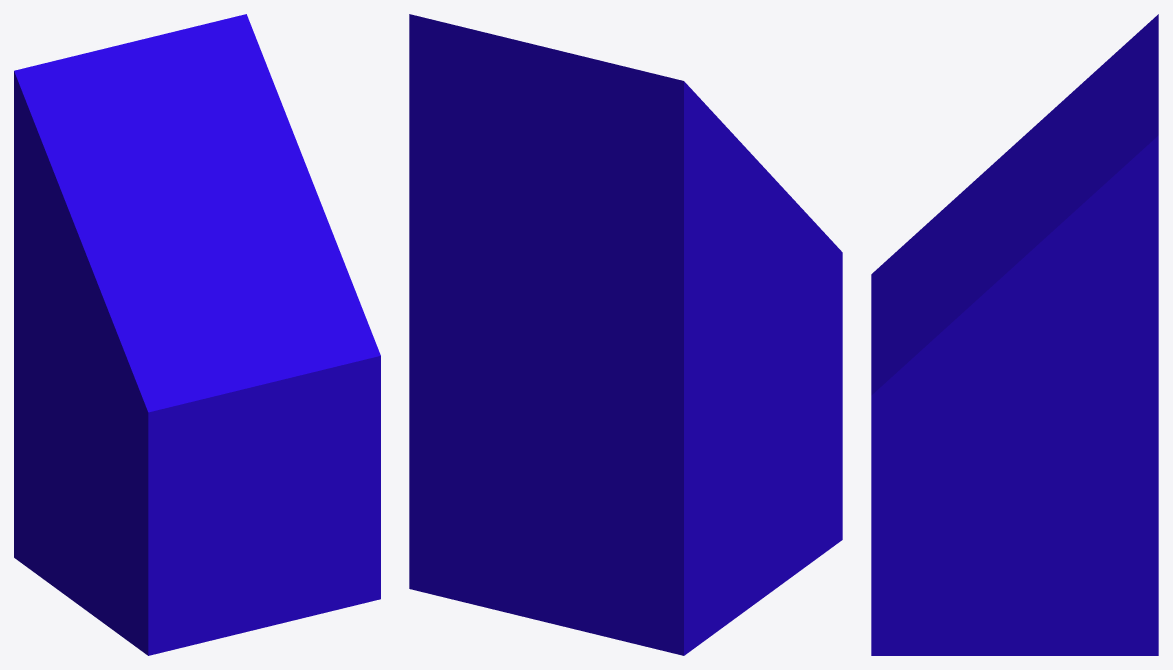
3 renders of one model, left to right at view 1: azimuth 30°, elevation 25°; view 2: azimuth 150°, elevation 25°; view 3: azimuth 270°, elevation 25°, orthographic. The views are drawn at different scales.
Visible parts, largest first — view 1: 立方体.001; view 2: 立方体.001; view 3: 立方体.001.
Boxes of the visible parts, box(x1,y1,x2,y2) form: 立方体.001: box(14, 14, 380, 655); 立方体.001: box(409, 14, 842, 655); 立方体.001: box(871, 14, 1158, 655).
Size of the model in its own units: 2000 by 4000 by 2000.
